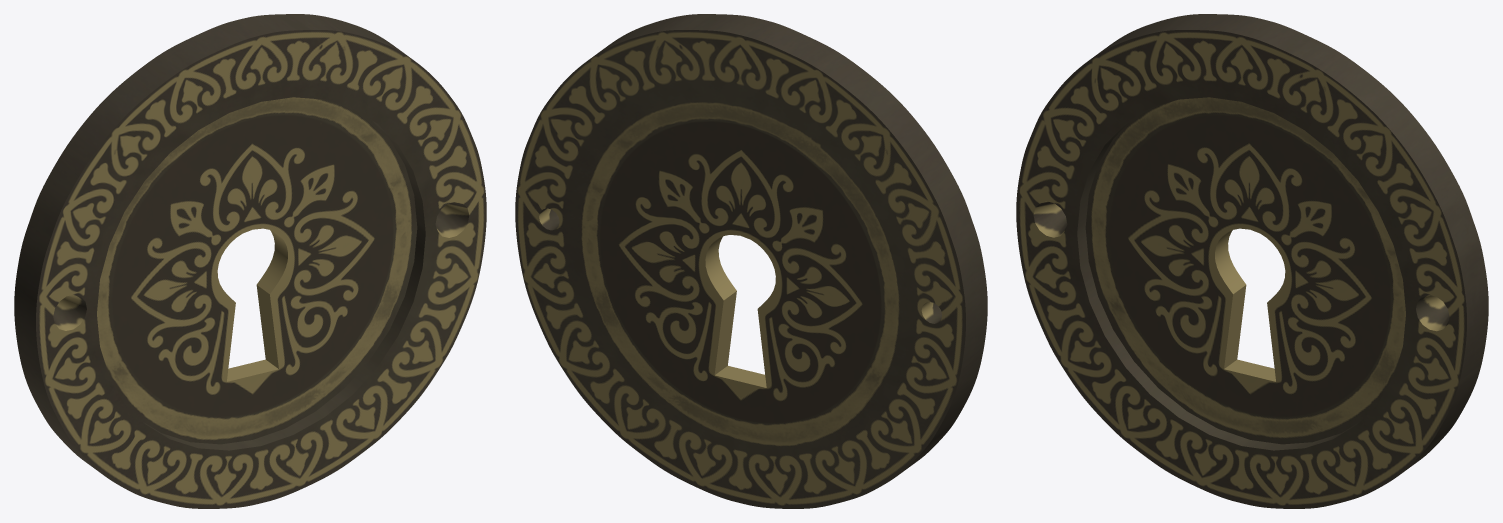
Rendered from victorian_ornate_keyhole_escutcheon.glb.
The picture shows the model from 3 angles, left to right: view 1: azimuth 30°, elevation 25°; view 2: azimuth 150°, elevation 25°; view 3: azimuth 330°, elevation 25°; orthographic projection.
Parts seen in each view (by area): view 1: I2M_Pocket Door Hardware - Pocket Door Pulls.001_1; view 2: I2M_Pocket Door Hardware - Pocket Door Pulls.001_1; view 3: I2M_Pocket Door Hardware - Pocket Door Pulls.001_1.
Part boxes in pixels (left/top/right/bottom): I2M_Pocket Door Hardware - Pocket Door Pulls.001_1: left=14, top=14, right=486, bottom=508; I2M_Pocket Door Hardware - Pocket Door Pulls.001_1: left=515, top=14, right=987, bottom=508; I2M_Pocket Door Hardware - Pocket Door Pulls.001_1: left=1016, top=14, right=1488, bottom=508.
Size of the model in its own units: 0.7415 by 0.7356 by 0.0618.
1 material, 1 textured.
